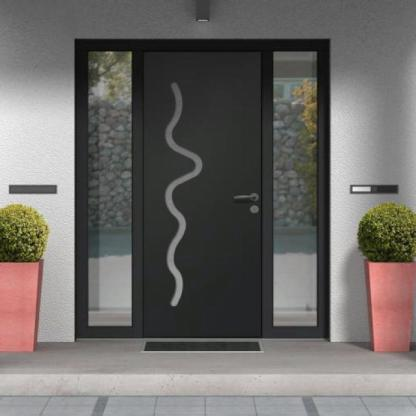door: (133, 26, 280, 343)
